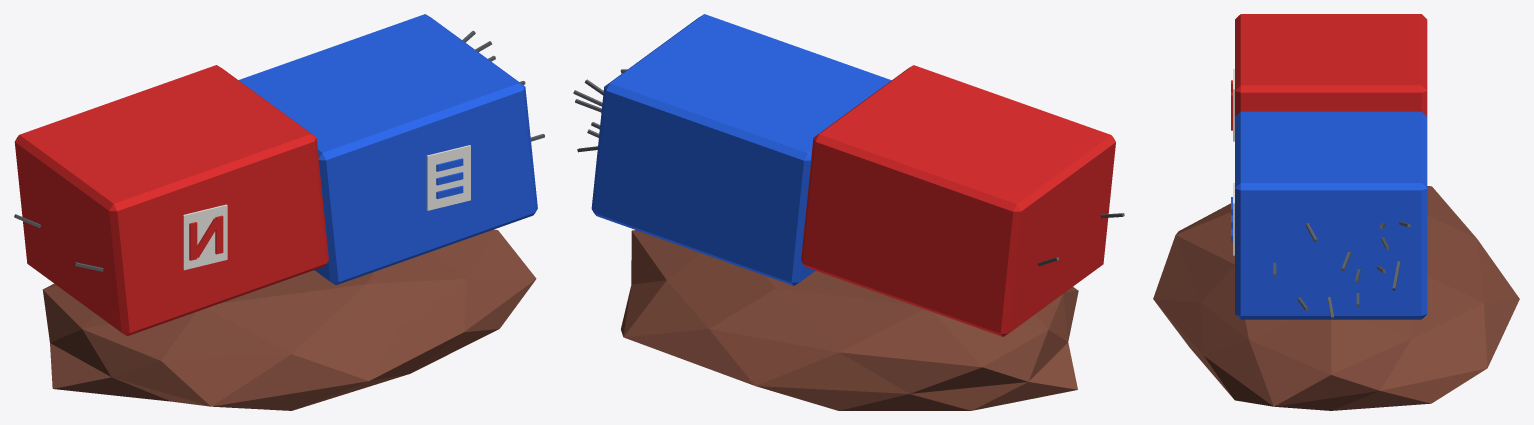
Rendered from magnet_raksasa_v001.glb.
The picture shows the model from 3 angles, left to right: view 1: azimuth 30°, elevation 25°; view 2: azimuth 150°, elevation 25°; view 3: azimuth 270°, elevation 25°; orthographic projection. The views are drawn at different scales.
Visible parts, largest first — view 1: Magnet_Raksasa; view 2: Magnet_Raksasa; view 3: Magnet_Raksasa.
Boxes of the visible parts, left/top/right/bottom form: Magnet_Raksasa: left=14, top=14, right=544, bottom=410; Magnet_Raksasa: left=573, top=14, right=1124, bottom=410; Magnet_Raksasa: left=1153, top=14, right=1519, bottom=410.
Bounding box in the file's own units: 5.57 × 2.62 × 3.81.
